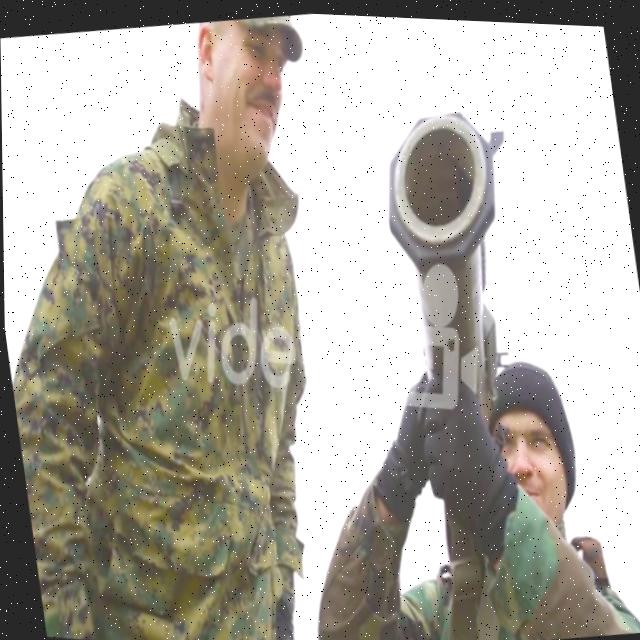rocket: (340, 78, 537, 423)
